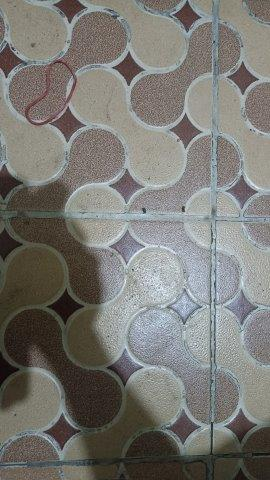karet: (24, 60, 77, 126)
